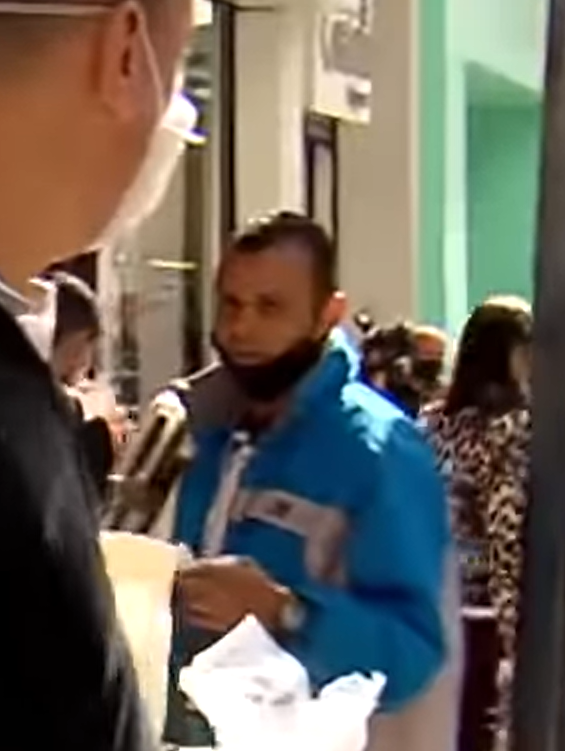mask_weared_incorrect: (201, 249, 351, 415)
